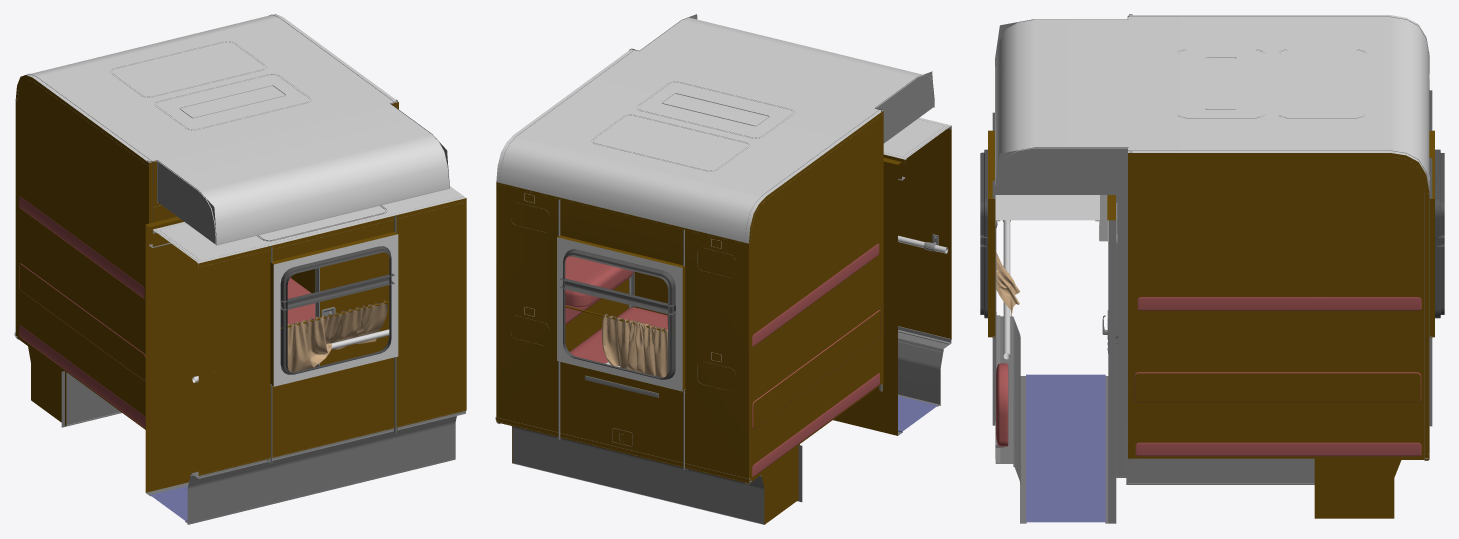
The model's file is SM_train_1.fbx.
The picture shows the model from 3 angles, left to right: view 1: azimuth 30°, elevation 25°; view 2: azimuth 150°, elevation 25°; view 3: azimuth 270°, elevation 25°; orthographic projection. The views are drawn at different scales.
Visible parts, largest first — view 1: SM_train_main, SM_train_door, SM_train_curtains, SM_train_light; view 2: SM_train_main, SM_train_curtains, SM_train_light; view 3: SM_train_main, SM_train_door, SM_train_curtains.
Part boxes in pixels (<box>): SM_train_main: <box>14,14,466,524</box>; SM_train_door: <box>315,252,389,366</box>; SM_train_curtains: <box>287,300,388,372</box>; SM_train_light: <box>155,74,387,241</box>; SM_train_main: <box>495,14,951,524</box>; SM_train_curtains: <box>602,314,667,377</box>; SM_train_light: <box>510,81,793,390</box>; SM_train_main: <box>980,14,1444,523</box>; SM_train_door: <box>1102,202,1120,523</box>; SM_train_curtains: <box>996,252,1020,316</box>.
Bounding box in the file's own units: 237 × 276 × 314.
